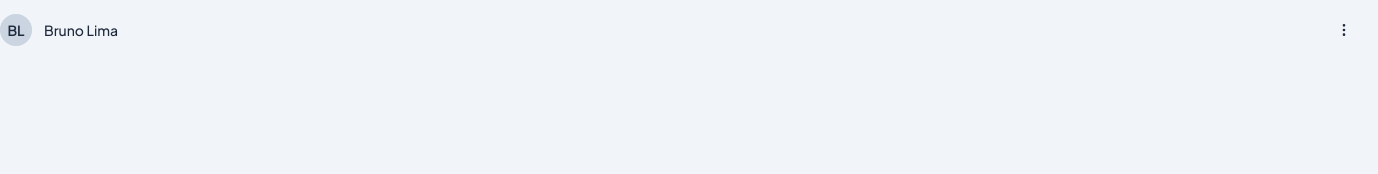
it: ParticipantRow › menu de quem organiza mostra Transferir organização e Remover do grupo com o grupo ABERTO
The image size is (1378, 174).
Later steps or results of the test are not shown.
Click the button named "Ações para Bruno Lima" at [1344, 30], box [1322,8,1366,52]
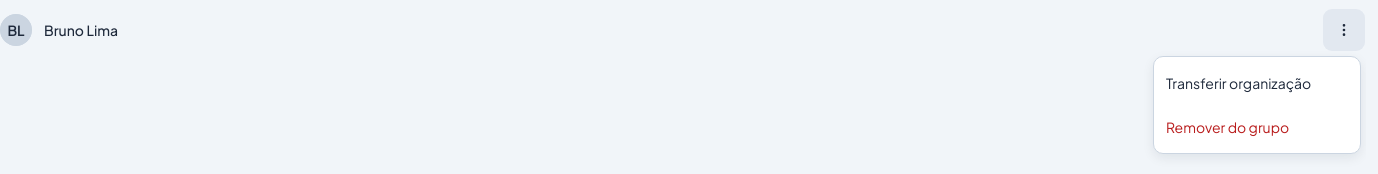
Result: the menu items read "Transferir organização", "Remover do grupo", in this order at [1166,74,1311,92]; [1166,118,1289,136]
